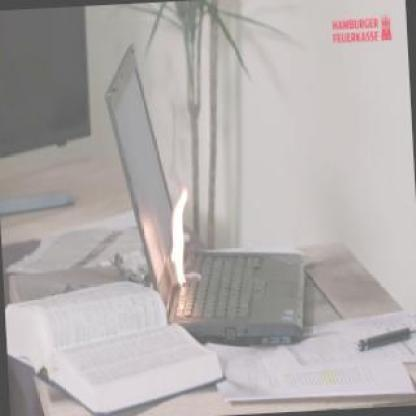Fire: (166, 182, 192, 289)
